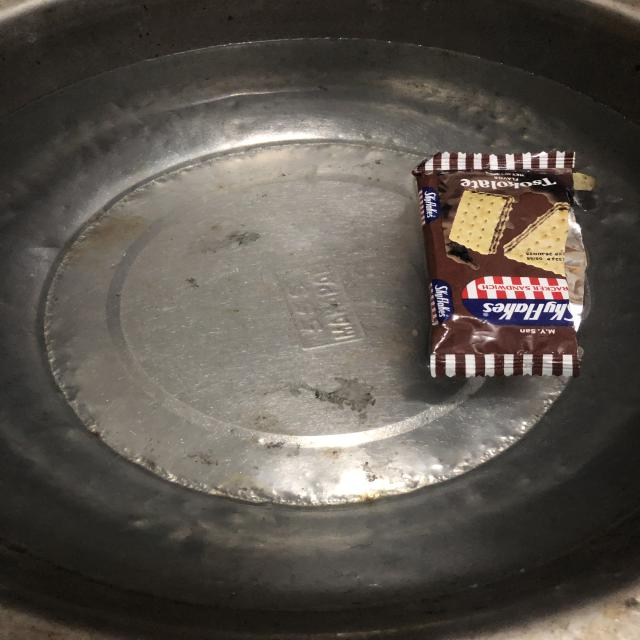Plastic Wrapper: (406, 145, 616, 379)
